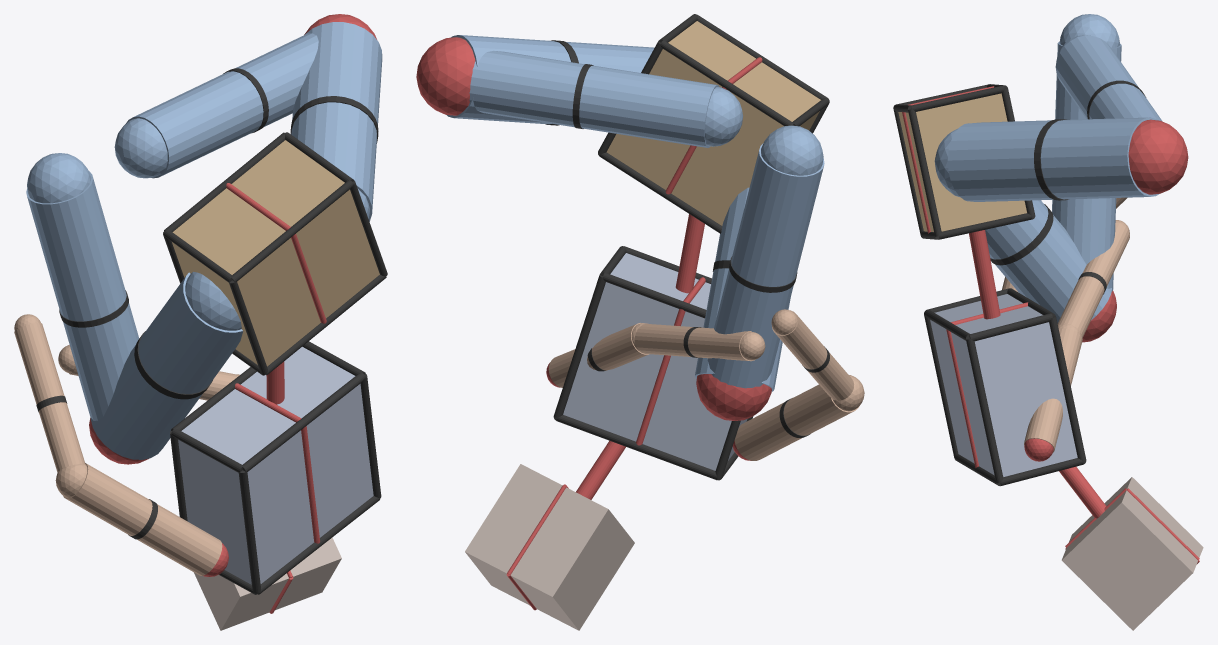
File: maquette_modified_rings.glb
3 views of the same model, side by side, from view 1: azimuth 30°, elevation 25°; view 2: azimuth 150°, elevation 25°; view 3: azimuth 270°, elevation 25° (orthographic). The views are drawn at different scales.
Parts seen in each view (by area): view 1: world; view 2: world; view 3: world.
Part boxes in pixels (x1,y1,x2,y2): world: [14, 14, 387, 630]; world: [416, 14, 864, 630]; world: [893, 14, 1203, 630].
Size of the model in its own units: 0.6497 by 0.9367 by 0.4894.
